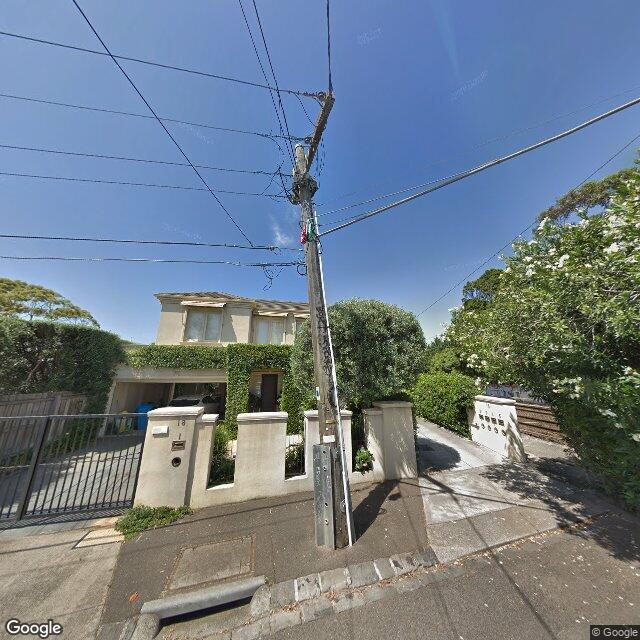crossarm: (306, 95, 335, 172)
timber-pole: (294, 144, 355, 550)
